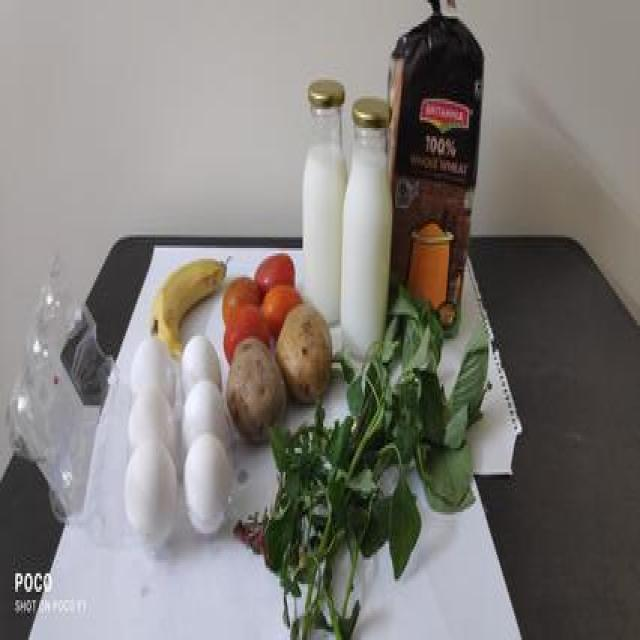Fresh_Spinach: (273, 300, 490, 640)
Fresh_tomato: (210, 251, 302, 341)
